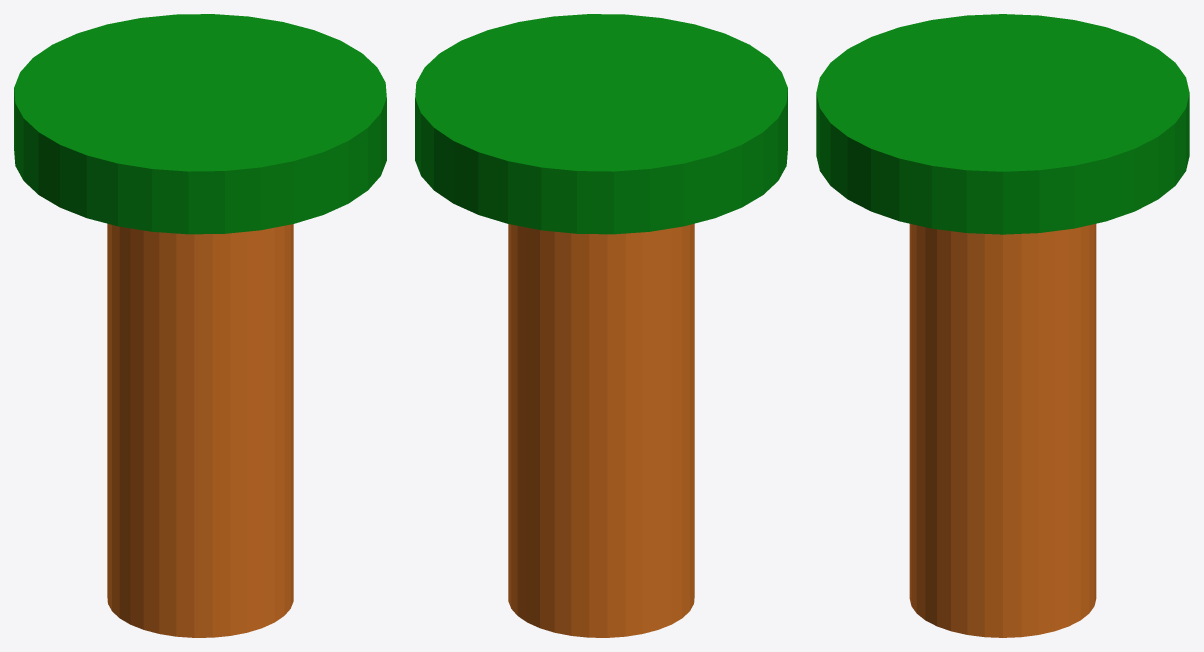
The model's file is Tree.glb.
The picture shows the model from 3 angles, left to right: view 1: azimuth 30°, elevation 25°; view 2: azimuth 150°, elevation 25°; view 3: azimuth 270°, elevation 25°; orthographic projection.
Parts seen in each view (by area): view 1: Cylinder; view 2: Cylinder; view 3: Cylinder.
Boxes of the visible parts, bbox=[...] form: Cylinder: bbox=[14, 14, 386, 637]; Cylinder: bbox=[415, 14, 787, 637]; Cylinder: bbox=[816, 14, 1189, 637].
Size of the model in its own units: 2 by 2.99 by 2.
